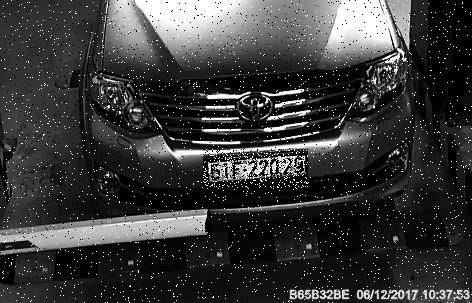License-plate: (204, 150, 309, 189)
